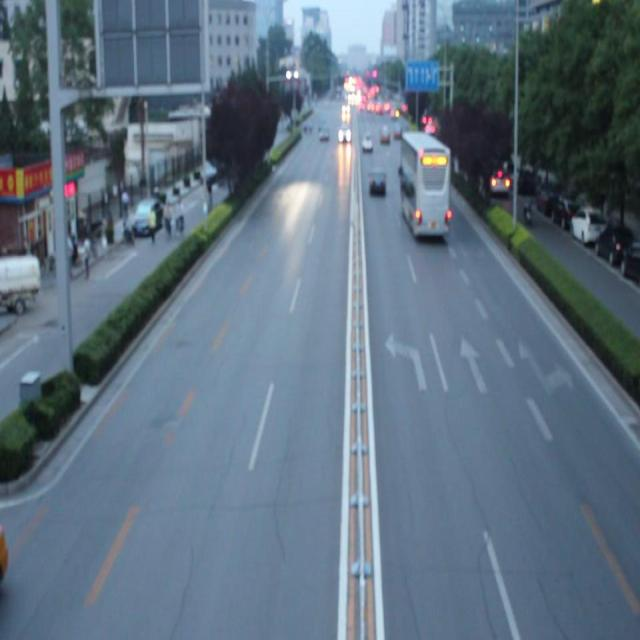van: (400, 130, 450, 238)
